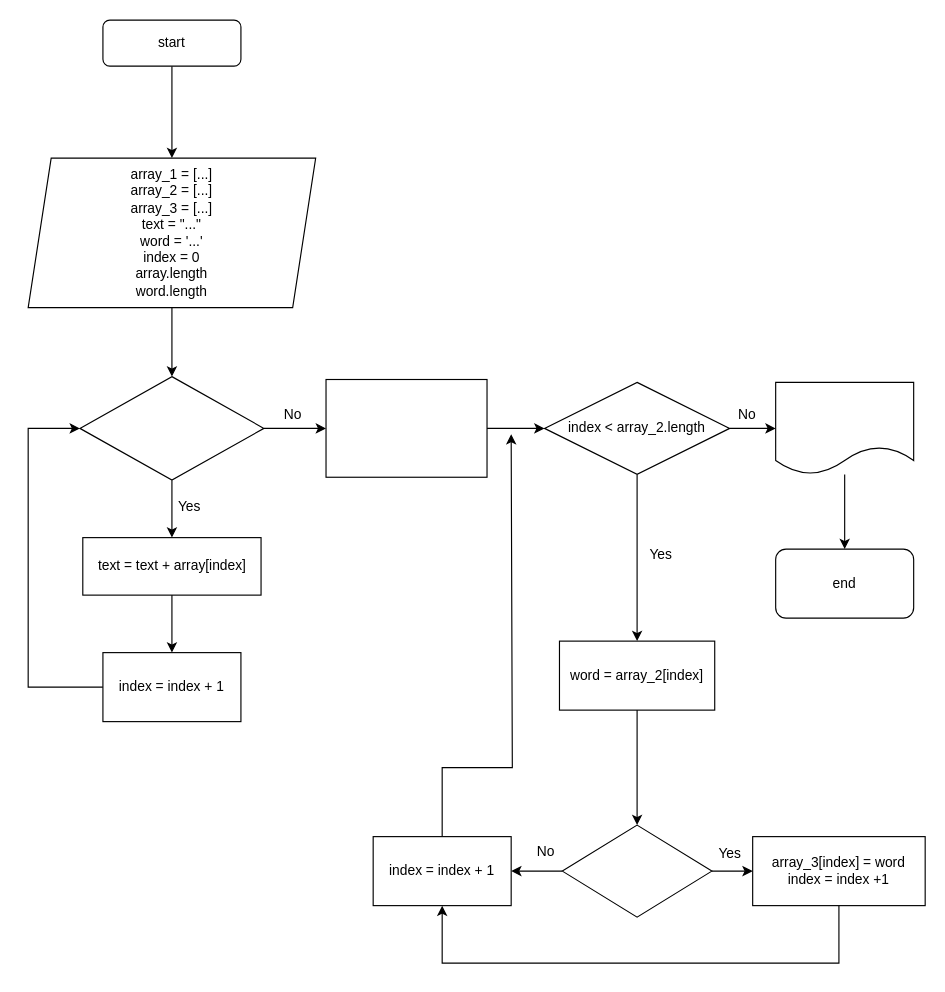
Image size: 945x992. Some labels were removed from this diagram. The shapes that lost their labels are listed below. From the top down, each one's centre as x and y in pixels, then its label:
At pixel 171 427: "index < array_1.length".
At pixel 406 427: "array_2 = text.Split".
At pixel 844 427: "print array_3".
At pixel 636 870: "word.length <= 3".
